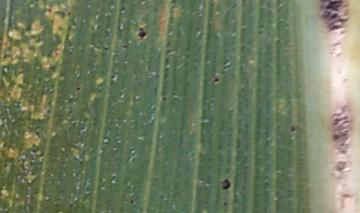tarspot: (317, 1, 349, 34), (135, 26, 148, 40), (220, 177, 231, 191), (212, 75, 221, 84), (158, 95, 168, 103), (289, 126, 296, 135), (121, 43, 130, 50), (222, 200, 230, 207), (65, 9, 72, 17), (129, 197, 135, 205), (46, 6, 52, 14), (75, 86, 81, 93)
